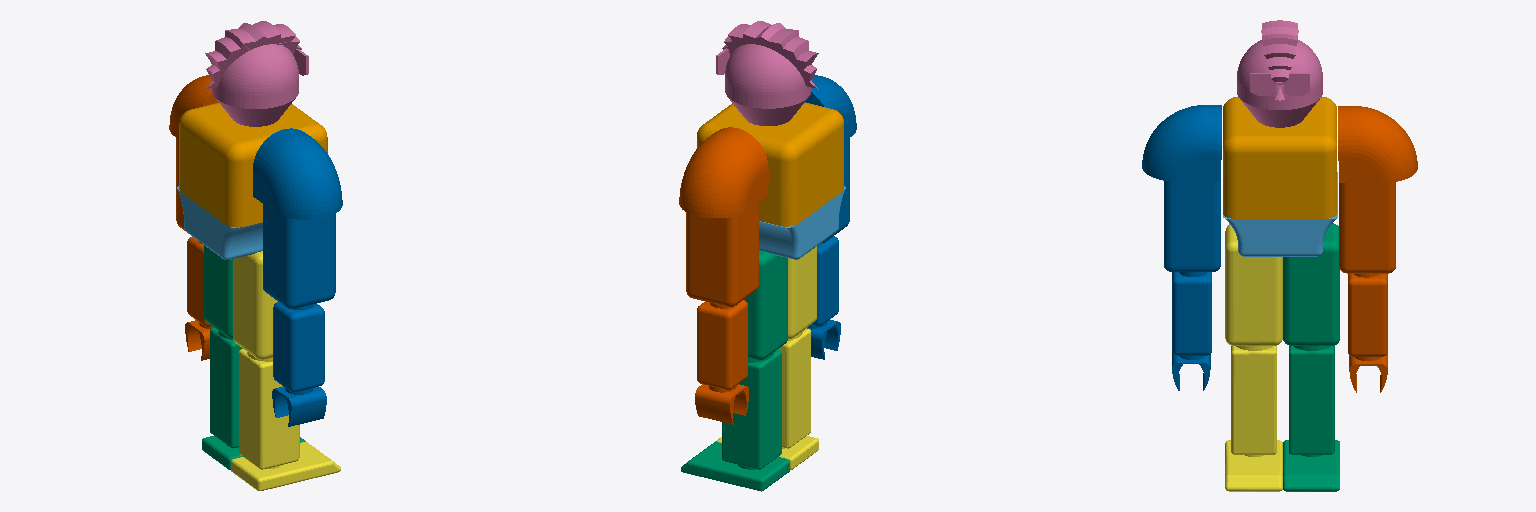
URDF robot description (myrobot):
<?xml version="1.0"?>
<robot name="myrobot">
 <link name="base_link">
    <visual>
      <origin rpy="0 0 1.5708" xyz="-0.11 -0.2 1.02"/>
      <geometry>
        <mesh filename="package://project_ars/meshes/BodySae1.dae"/>
      </geometry>
    </visual>
     <collision>
      <geometry>
        <mesh filename="package://project_ars/meshes/BodySae1.dae"/>
      </geometry>
      <origin rpy="0 0 1.5708" xyz="-0.11 -0.2 1.02"/>
    </collision>
    <inertial>
      <mass value="10"/>
      <inertia ixx="1e-3" ixy="0.0" ixz="0.0" iyy="1e-3" iyz="0.0" izz="1e-3"/>
    </inertial>
  </link>
  
  <link name="pelvis">
    <visual>
      <origin rpy="0 0 1.5708" xyz="-0.11 -0.2 -0.05"/>
      <geometry>
        <mesh filename="package://project_ars/meshes/PelvisSet.dae"/>
      </geometry>
    </visual>
     <collision>
      <geometry>
        <mesh filename="package://project_ars/meshes/PelvisSet.dae"/>
      </geometry>
      <origin rpy="0 0 1.5708" xyz="-0.11 -0.2 -0.05"/>
    </collision>
    <inertial>
      <mass value="5"/>
      <inertia ixx="1e-3" ixy="0.0" ixz="0.0" iyy="1e-3" iyz="0.0" izz="1e-3"/>
    </inertial>
  </link>
  
  <joint name="base_link_to_pelvis" type="fixed">
    <axis xyz="0 -0.5 0"/>
    <limit effort="1000.0" lower="-0.850" upper="1.3" velocity="0.5"/>
    <parent link="base_link"/>
    <child link="pelvis"/>
    <origin rpy="0 0 0" xyz="0 0 0.92"/>
  </joint>
  
<link name="left_leg">
    <visual>
      <origin rpy="0 0 1.5708" xyz="-0.1 -0.09 -0.88"/>
      <geometry>
        <mesh filename="package://project_ars/meshes/LegSat.dae"/>
      </geometry>
    </visual>
    <collision>
      <geometry>
        <mesh filename="package://project_ars/meshes/LegSat.dae"/>
      </geometry>
      <origin rpy="0 0 1.5708" xyz="-0.1 -0.09 -0.88"/>
    </collision>
    <inertial>
      <mass value="15"/>
      <inertia ixx="1e-3" ixy="0.0" ixz="0.0" iyy="1e-3" iyz="0.0" izz="1e-3"/>
    </inertial>
  </link>
  
  <joint name="pelvis_to_left_leg" type="revolute">
    <axis xyz="0 -0.5 0"/>
    <dynamics damping="0.1" friction="0.0"/>
    <limit effort="50000.0" lower="-0.5" upper="0.850" velocity="0.5"/>
    <parent link="pelvis"/>
    <child link="left_leg"/>
    <origin rpy="0 0 0" xyz="0.1 0.1 -0.05"/>
  </joint>
  
  <link name="right_leg">
    <visual>
      <origin rpy="0 0 1.5708" xyz="-0.1 -0.09 -0.88"/>
      <geometry>
        <mesh filename="package://project_ars/meshes/LegSat.dae"/>
      </geometry>
    </visual>
    <collision>
      <geometry>
        <mesh filename="package://project_ars/meshes/LegSat.dae"/>
      </geometry>
      <origin rpy="0 0 1.5708" xyz="-0.1 -0.09 -0.88"/>
    </collision>
    <inertial>
      <mass value="15"/>
      <inertia ixx="1e-3" ixy="0.0" ixz="0.0" iyy="1e-3" iyz="0.0" izz="1e-3"/>
    </inertial>
  </link>
  
  <joint name="pelvis_to_right_leg" type="revolute">
    <axis xyz="0 -0.5 0"/>
    <dynamics damping="0.1" friction="0.0"/>
    <limit effort="50000.0" lower="-0.5" upper="0.850" velocity="0.5"/>
    <parent link="pelvis"/>
    <child link="right_leg"/>
    <origin rpy="0 0 0" xyz="0.1 -0.1 -0.05"/>
  </joint>
  
  <link name="right_hand">
    <visual>
      <origin rpy="0 0 1.5708" xyz="-0.13 -0.33 -0.9"/>
      <geometry>
        <mesh filename="package://project_ars/meshes/HandSat.dae"/>
      </geometry>
    </visual>
    <collision>
      <geometry>
        <mesh filename="package://project_ars/meshes/HandSat.dae"/>
      </geometry>
      <origin rpy="0 0 1.5708" xyz="-0.13 -0.33 -0.9"/>
    </collision>
    <inertial>
      <mass value="1"/>
      <inertia ixx="1e-3" ixy="0.0" ixz="0.0" iyy="1e-3" iyz="0.0" izz="1e-3"/>
    </inertial>
  </link>
  
  <joint name="base_link_to_right_hand" type="revolute">
    <axis xyz="0 -0.5 0"/>
    <limit effort="500.0" lower="-0.850" upper="3.2" velocity="0.5"/>
    <parent link="base_link"/>
    <child link="right_hand"/>
    <origin rpy="0 0 0" xyz="0.1 -0.15 1.2"/>
  </joint>
  
  <link name="left_hand">
    <visual>
      <origin rpy="0 0 1.5708" xyz="-0.13 -0.33 -0.9"/>
      <geometry>
        <mesh filename="package://project_ars/meshes/HandSat.dae"/>
      </geometry>
    </visual>
    <collision>
      <geometry>
        <mesh filename="package://project_ars/meshes/HandSat.dae"/>
      </geometry>
      <origin rpy="0 0 1.5708" xyz="-0.13 -0.33 -0.9"/>
    </collision>
    <inertial>
      <mass value="1"/>
      <inertia ixx="1e-3" ixy="0.0" ixz="0.0" iyy="1e-3" iyz="0.0" izz="1e-3"/>
    </inertial>
  </link>
  
  <joint name="base_link_to_left_hand" type="revolute">
    <axis xyz="0 0.5 0"/>
    <limit effort="500.0" lower="-0.850" upper="3.2" velocity="0.5"/>
    <parent link="base_link"/>
    <child link="left_hand"/>
    <origin rpy="0 0 3.1416" xyz="0.1 0.15 1.2"/>
  </joint>
  
  <link name="head">
    <visual>
      <origin rpy="0 0 1.5708" xyz="-0.2 -0.15 0"/>
      <geometry>
        <mesh filename="package://project_ars/meshes/HeadSat.dae"/>
      </geometry>
    </visual>
    <collision>
      <geometry>
        <mesh filename="package://project_ars/meshes/HeadSat.dae"/>
      </geometry>
      <origin rpy="0 0 1.5708" xyz="-0.2 -0.15 0"/>
    </collision>
    <inertial>
      <mass value="2"/>
      <inertia ixx="1e-3" ixy="0.0" ixz="0.0" iyy="1e-3" iyz="0.0" izz="1e-3"/>
    </inertial>
  </link>
  
  <joint name="base_link_to_head" type="fixed">
    <axis xyz="0 0 0.5"/>
    <limit effort="500.0" lower="-0.850" upper="0.850" velocity="0.5"/>
    <parent link="base_link"/>
    <child link="head"/>
    <origin rpy="0 0 0" xyz="0.1 0 1.32"/>
  </joint>
</robot>

--- Render facts (derived) ---
3 views of the same robot in one strip: view 1: azimuth 30°, elevation 25°; view 2: azimuth 150°, elevation 25°; view 3: azimuth 270°, elevation 25° (orthographic).
Robot: myrobot — 7 links, 6 joints (4 revolute, 2 fixed); root link base_link; default pose: all joints at 0.
Links seen in each view (by area): view 1: right_hand, right_leg, base_link, head, left_leg, left_hand, pelvis; view 2: left_hand, left_leg, base_link, head, right_leg, right_hand, pelvis; view 3: left_hand, right_hand, right_leg, left_leg, base_link, head, pelvis.
Boxes of the visible links, <box> form: right_hand: <box>253,128,342,426</box>; right_leg: <box>231,251,340,490</box>; base_link: <box>179,103,327,227</box>; head: <box>205,21,308,126</box>; left_leg: <box>202,245,305,469</box>; left_hand: <box>169,75,218,360</box>; pelvis: <box>177,186,262,259</box>; left_hand: <box>679,127,768,424</box>; left_leg: <box>681,250,789,491</box>; base_link: <box>697,102,843,226</box>; head: <box>716,21,818,125</box>; right_leg: <box>715,246,818,469</box>; right_hand: <box>805,75,856,359</box>; pelvis: <box>759,186,845,259</box>; left_hand: <box>1338,106,1417,392</box>; right_hand: <box>1142,105,1221,390</box>; right_leg: <box>1225,224,1282,491</box>; left_leg: <box>1283,223,1339,491</box>; base_link: <box>1223,97,1336,218</box>; head: <box>1237,20,1322,127</box>; pelvis: <box>1223,172,1337,256</box>.
Bounding box of the posed robot: 0.443 × 0.96 × 1.67 m (x, y, z).
Meshes: 5 distinct files referenced, 7 mesh visuals loaded (5 Collada DAE).